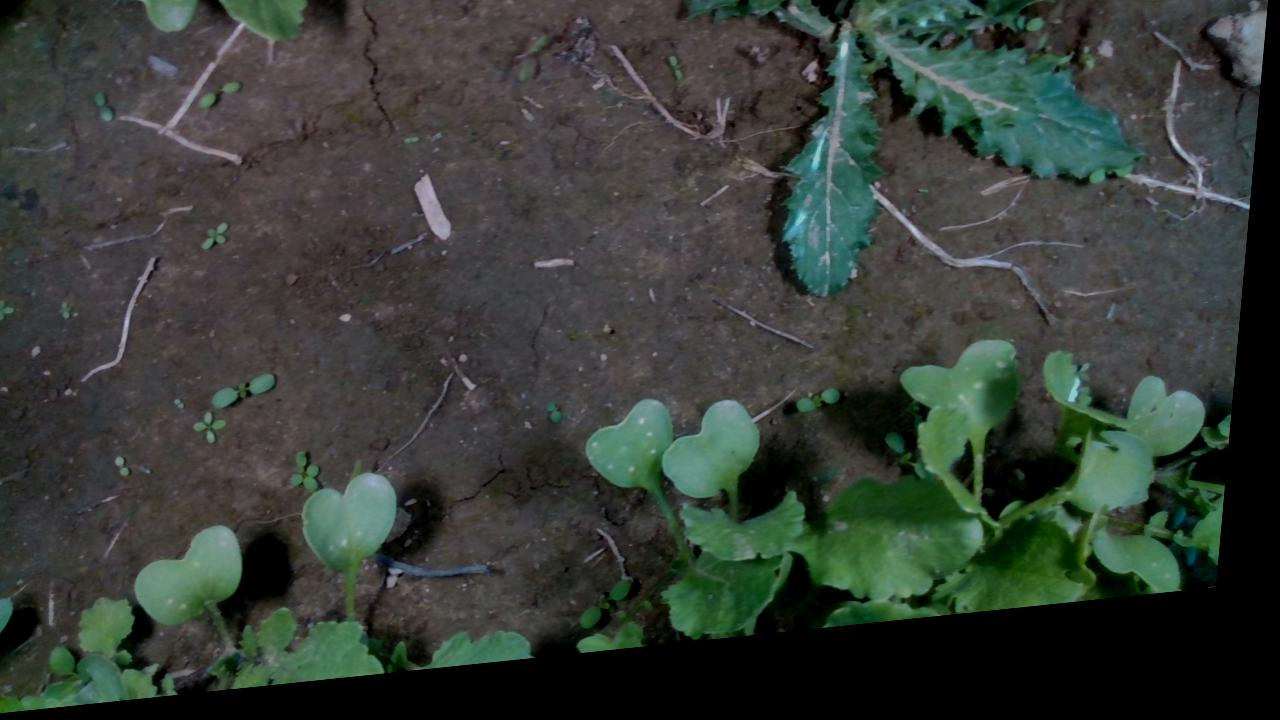weed: (217, 376, 285, 414), (296, 453, 330, 502), (196, 83, 243, 114), (197, 413, 236, 450), (803, 403, 851, 432), (204, 224, 234, 255), (93, 91, 118, 127), (665, 67, 687, 98), (0, 298, 22, 321), (120, 456, 140, 481), (551, 412, 571, 437), (62, 301, 80, 323), (179, 401, 193, 416)
